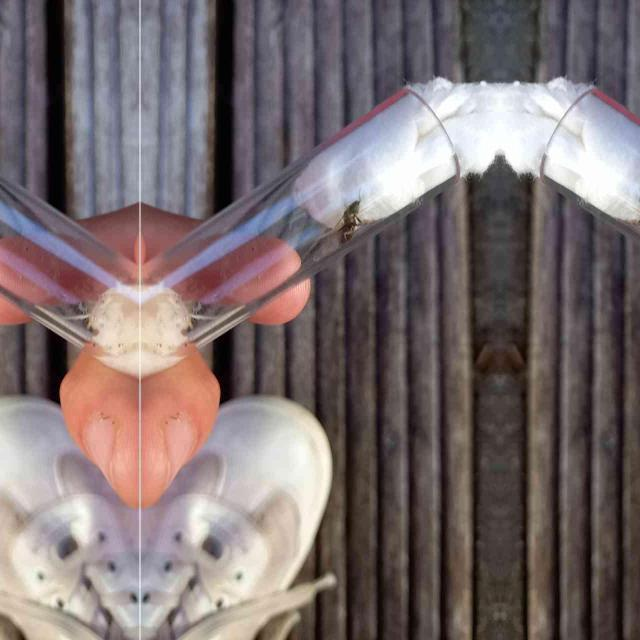Lasius: (334, 192, 366, 246)
